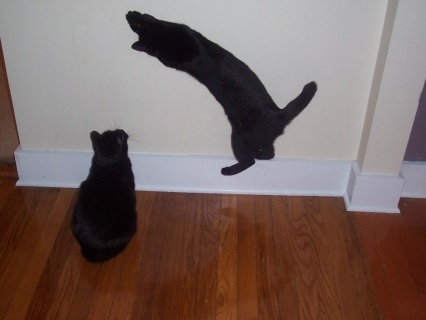Cat: (126, 0, 321, 175), (68, 117, 140, 262)
